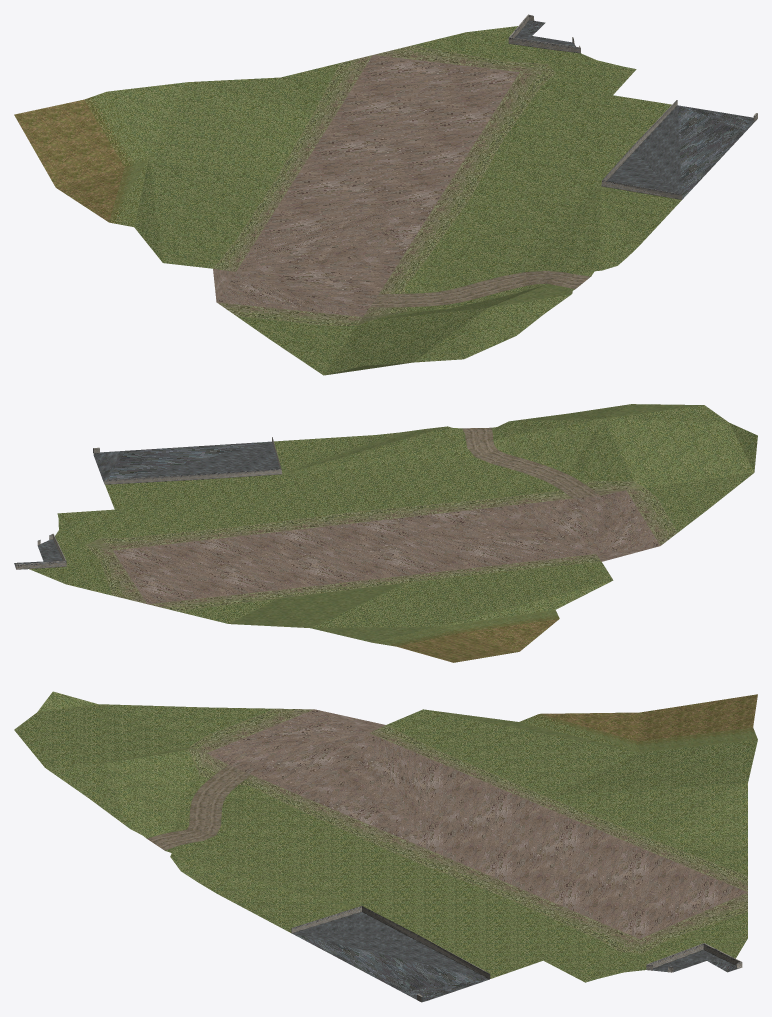
The model's file is lodcs05.obj.
3 views of the same model, one above another, from view 1: azimuth 30°, elevation 25°; view 2: azimuth 150°, elevation 25°; view 3: azimuth 270°, elevation 25° (orthographic). The views are drawn at different scales.
Parts seen in each view (by area): view 1: LODcs05; view 2: LODcs05; view 3: LODcs05.
Part boxes in pixels (left/top/right/bottom): LODcs05: left=14, top=14, right=757, bottom=375; LODcs05: left=14, top=404, right=757, bottom=662; LODcs05: left=14, top=691, right=757, bottom=1002.
Bounding box in the file's own units: 202 × 10.46 × 216.
9 materials, 9 textured.
